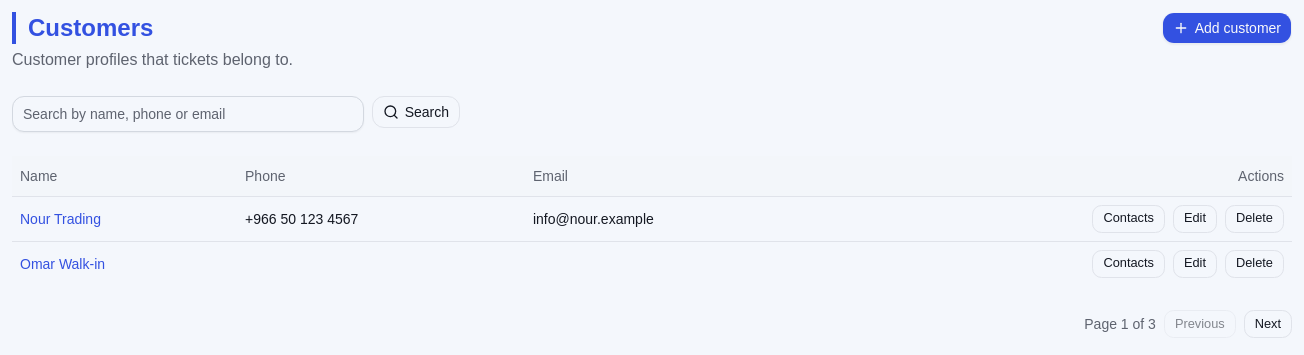
Test: CustomersPage › searches by name, phone or email and starts again at page 1
Expected: the row "Nour Trading" is shown, [12,196,1292,241]
Click the button "Next": point(1268, 324) [1244,310,1292,338]
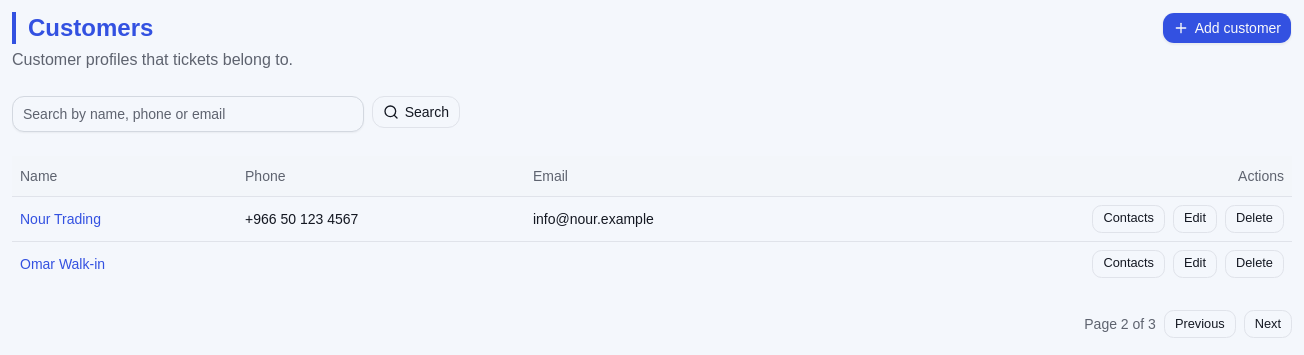
In the search field labelled "Search by name, phone or email": point(188, 114) [12,96,364,132], type " +966 50 "
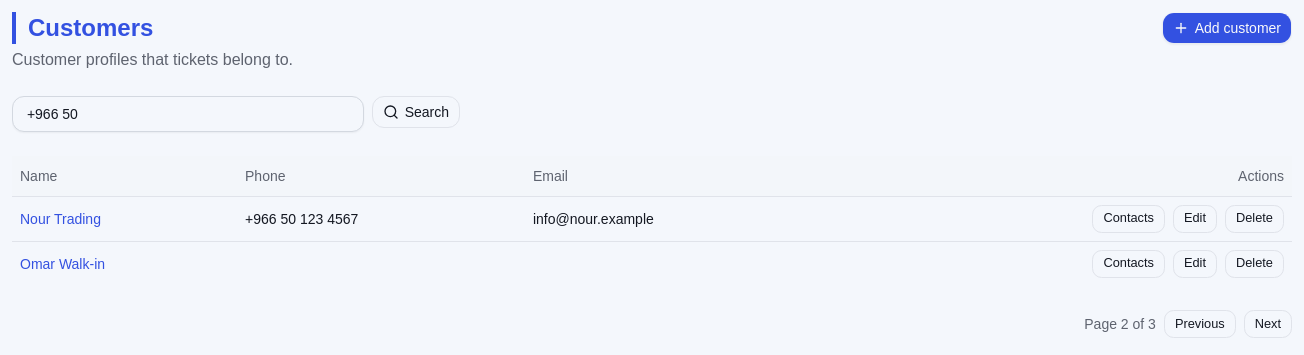
Click the button "Search": point(416, 112) [372,96,460,128]
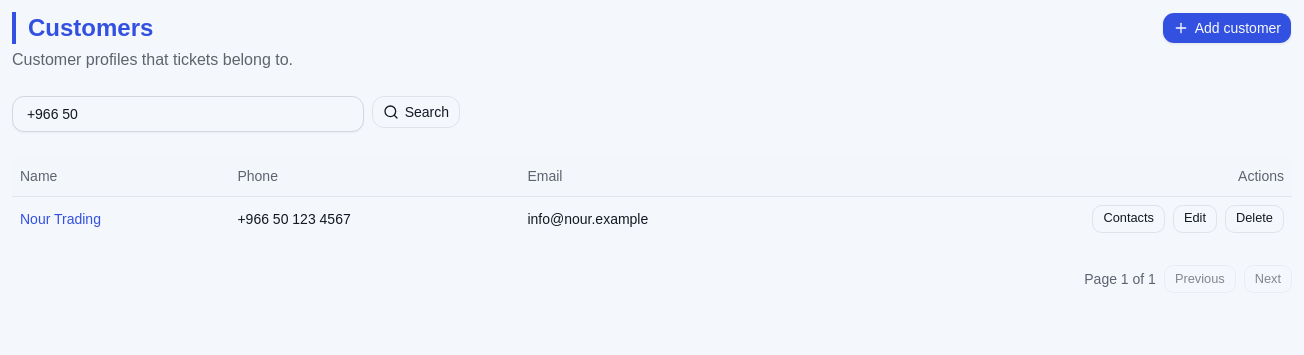
Expected: the link "Omar Walk-in" is gone
